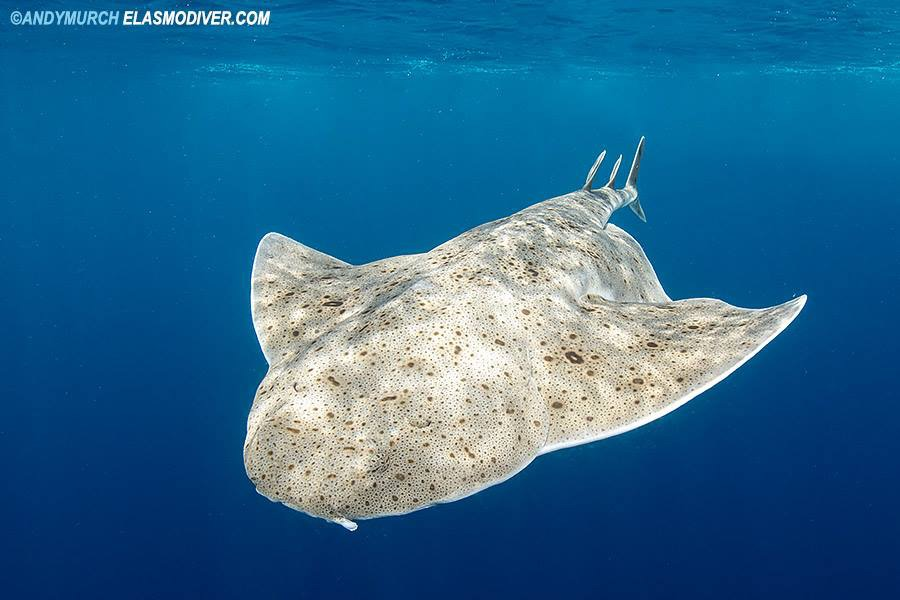shark: (175, 80, 832, 542)
